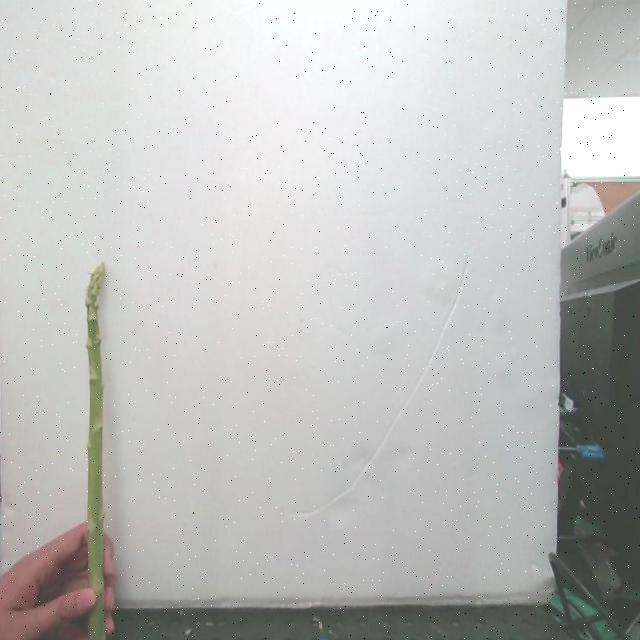aspargus: (86, 265, 111, 640)
